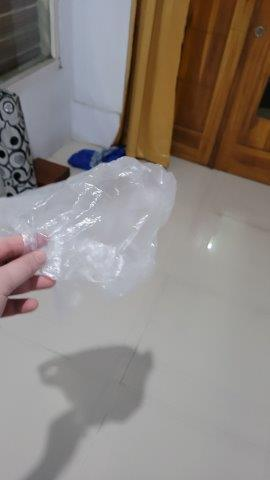plastik: (1, 155, 178, 301)
